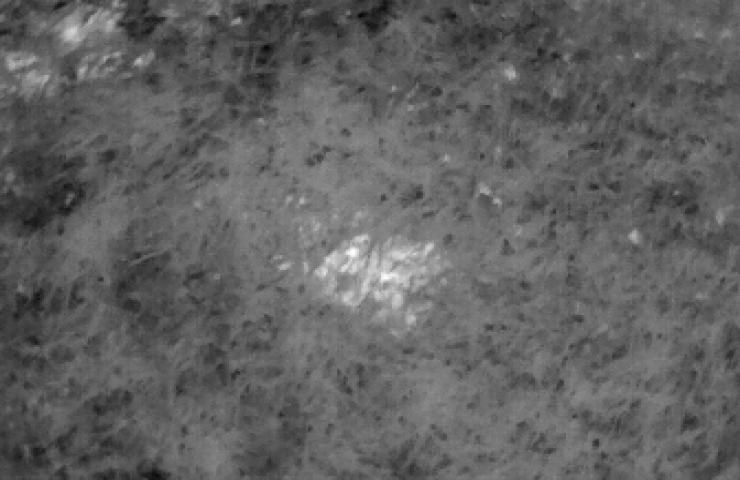landmines: (307, 229, 453, 334)
